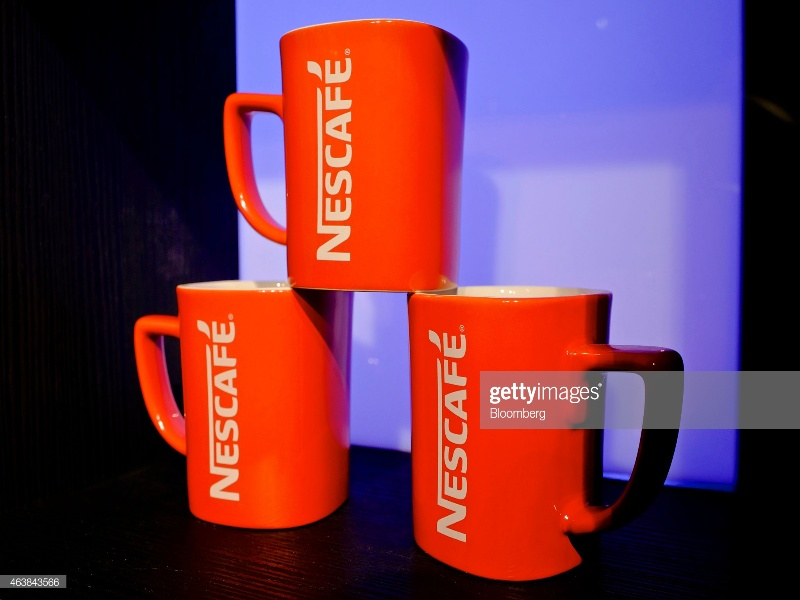nescafe-mug: (410, 282, 690, 574), (210, 21, 474, 296), (119, 285, 355, 529)
